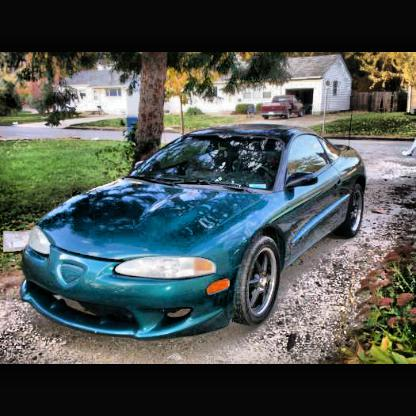Eagle Talon Hatchback 1998: (24, 101, 367, 342)
